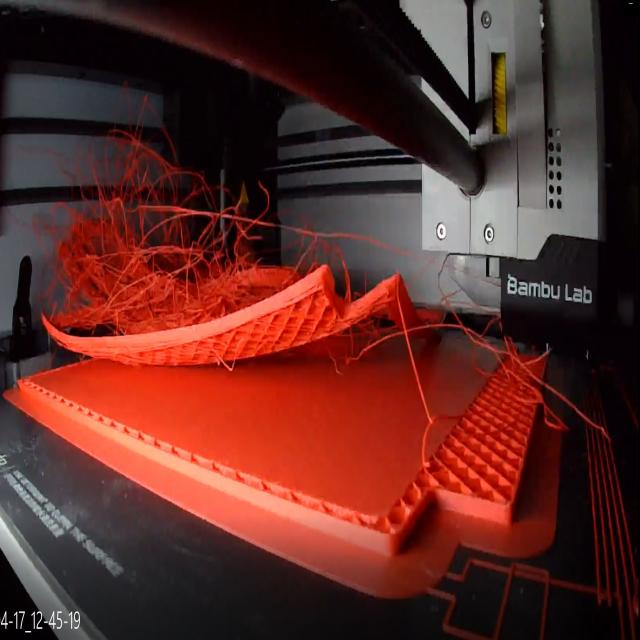spaghetti: (60, 117, 273, 336)
